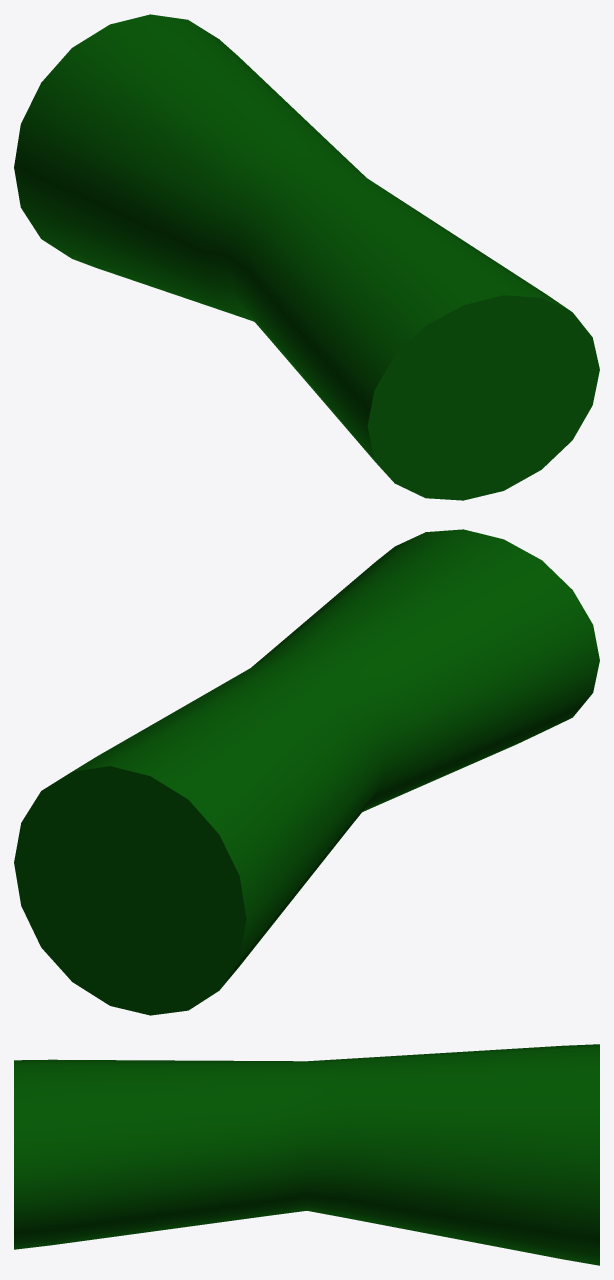
Rendered from various03.FBX.
3 views of the same model, one above another, from view 1: azimuth 30°, elevation 25°; view 2: azimuth 150°, elevation 25°; view 3: azimuth 270°, elevation 25° (orthographic). The views are drawn at different scales.
Visible parts, largest first — view 1: SM_various03_0; view 2: SM_various03_0; view 3: SM_various03_0.
Part boxes in pixels (x1,y1,x2,y2): SM_various03_0: (14, 14, 599, 500); SM_various03_0: (14, 529, 599, 1015); SM_various03_0: (14, 1044, 599, 1265).
Bounding box in the file's own units: 34.21 × 90.13 × 33.72.
